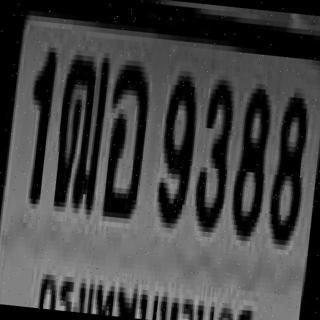A18: (50, 49, 109, 210)
A43: (100, 59, 150, 214)
N01: (20, 41, 56, 199)
N03: (190, 74, 235, 228)
N08: (227, 77, 272, 237), (264, 86, 310, 241)
N09: (154, 67, 200, 222)
